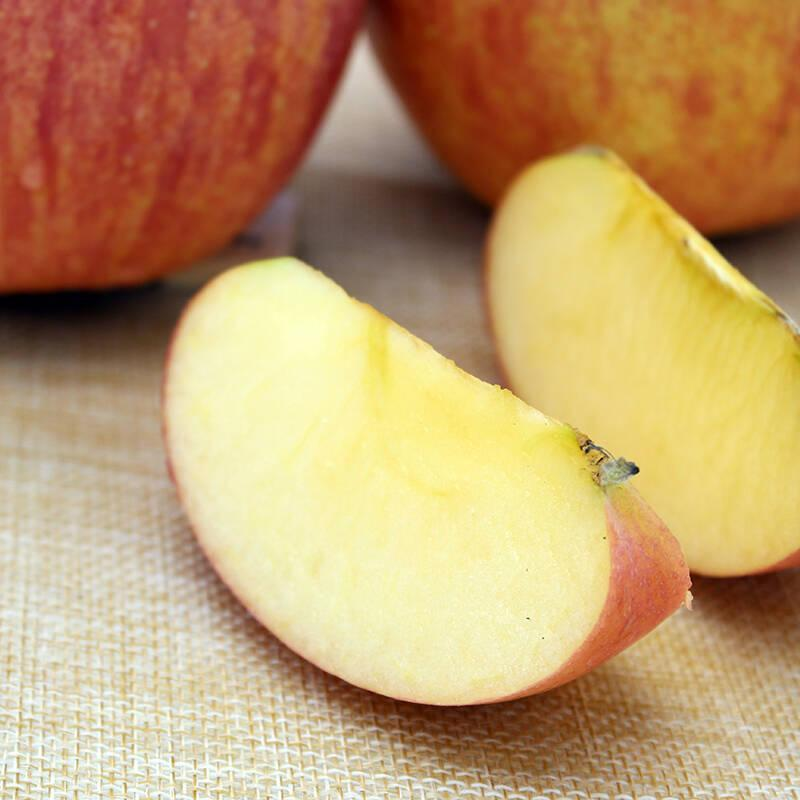apple: (6, 1, 379, 306), (378, 1, 800, 233)
